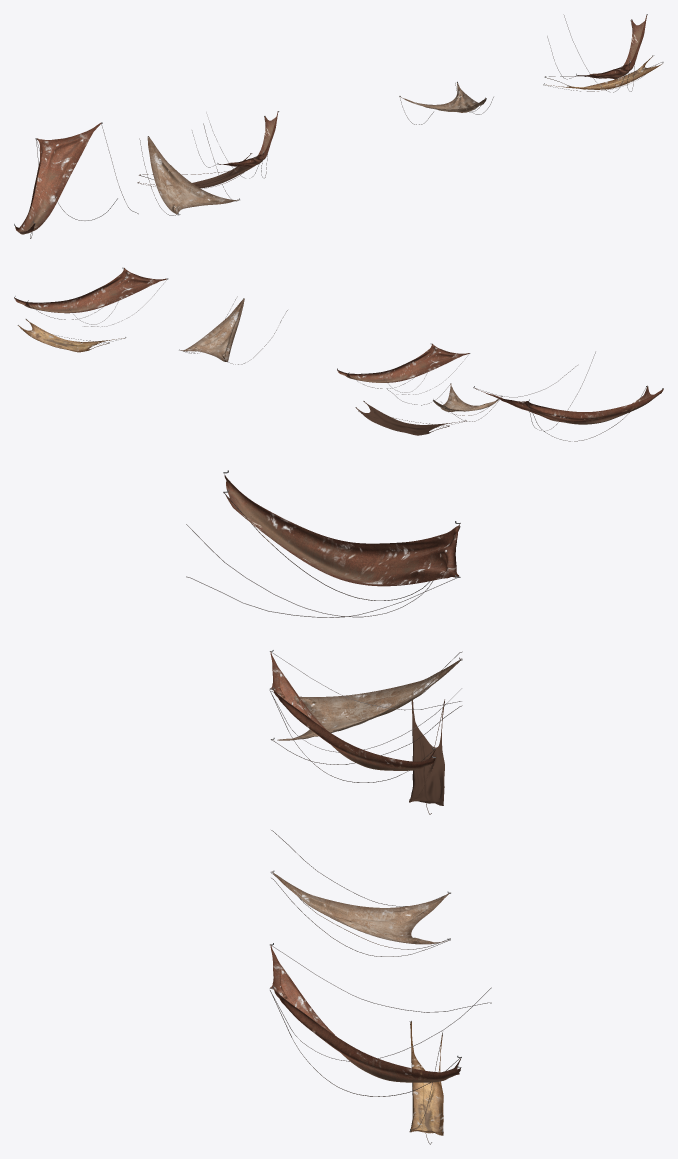
Rendered from xi_dsp_awning.gltf.
The picture shows the model from 3 angles, top to bottom: view 1: azimuth 30°, elevation 25°; view 2: azimuth 150°, elevation 25°; view 3: azimuth 270°, elevation 25°; orthographic projection. The views are drawn at different scales.
Visible parts, largest first — view 1: xi_dsp_awning; view 2: xi_dsp_awning; view 3: xi_dsp_awning.
Part boxes in pixels (x1,y1,x2,y2): xi_dsp_awning: [14, 14, 663, 238]; xi_dsp_awning: [14, 267, 663, 441]; xi_dsp_awning: [186, 470, 491, 1144].
Size of the model in its own units: 81.89 by 9.2 by 18.34.
Materials: 1 (1 with a texture image).
